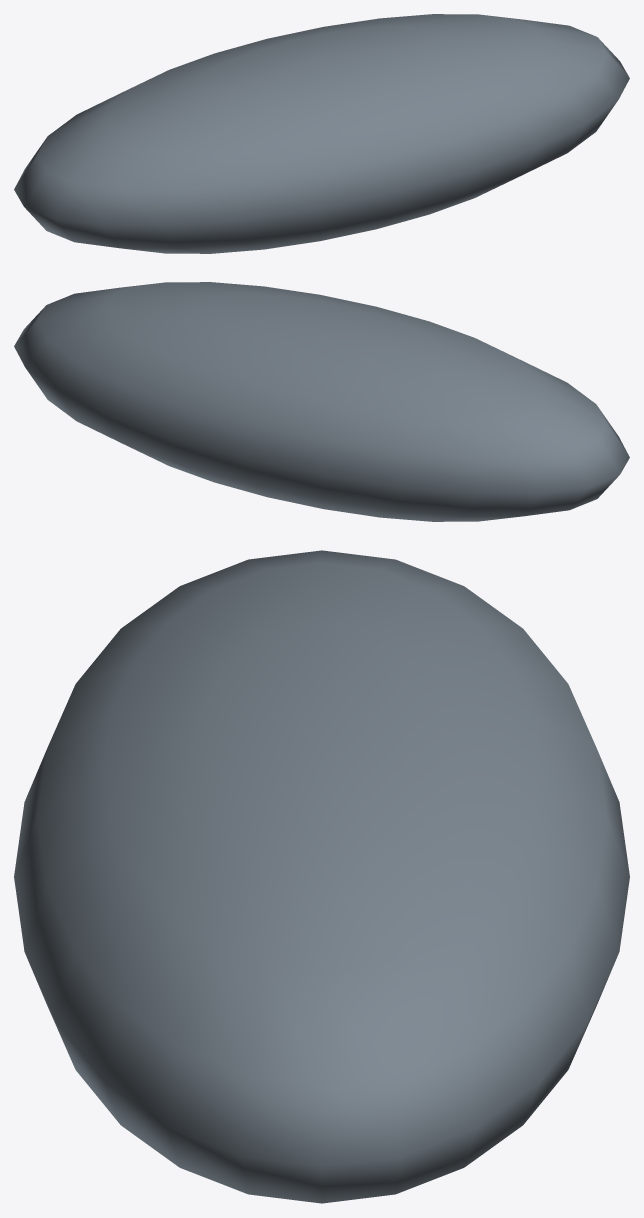
The model's file is SM_FE_Hill2.fbx.
3 renders of one model, top to bottom at view 1: azimuth 30°, elevation 25°; view 2: azimuth 150°, elevation 25°; view 3: azimuth 270°, elevation 25°, orthographic. The views are drawn at different scales.
Parts seen in each view (by area): view 1: SM_FE_Hill2; view 2: SM_FE_Hill2; view 3: SM_FE_Hill2.
Boxes of the visible parts, x1=… form: SM_FE_Hill2: x1=14, y1=14, x2=629, y2=253; SM_FE_Hill2: x1=14, y1=282, x2=629, y2=521; SM_FE_Hill2: x1=14, y1=550, x2=629, y2=1203.
Size of the model in its own units: 8000 by 3600 by 2000.
